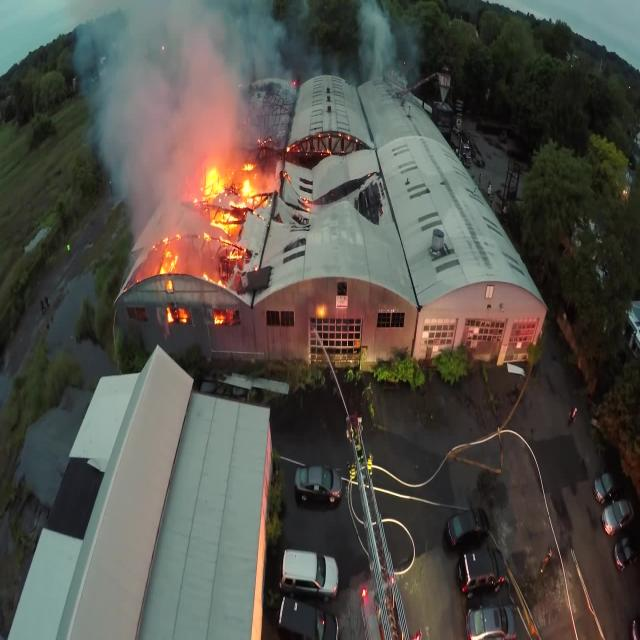Fire: (191, 158, 266, 249), (152, 232, 193, 332), (205, 234, 240, 332)
Smoke: (96, 2, 228, 200)
